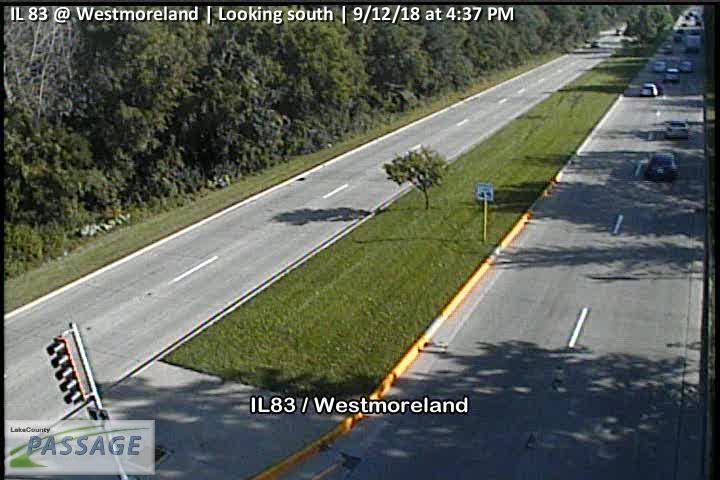SUV: (637, 81, 659, 97), (663, 68, 680, 81)
Sedan: (644, 151, 681, 181), (665, 119, 689, 138), (653, 59, 667, 72), (679, 60, 693, 72)
Truck: (685, 35, 702, 52)
